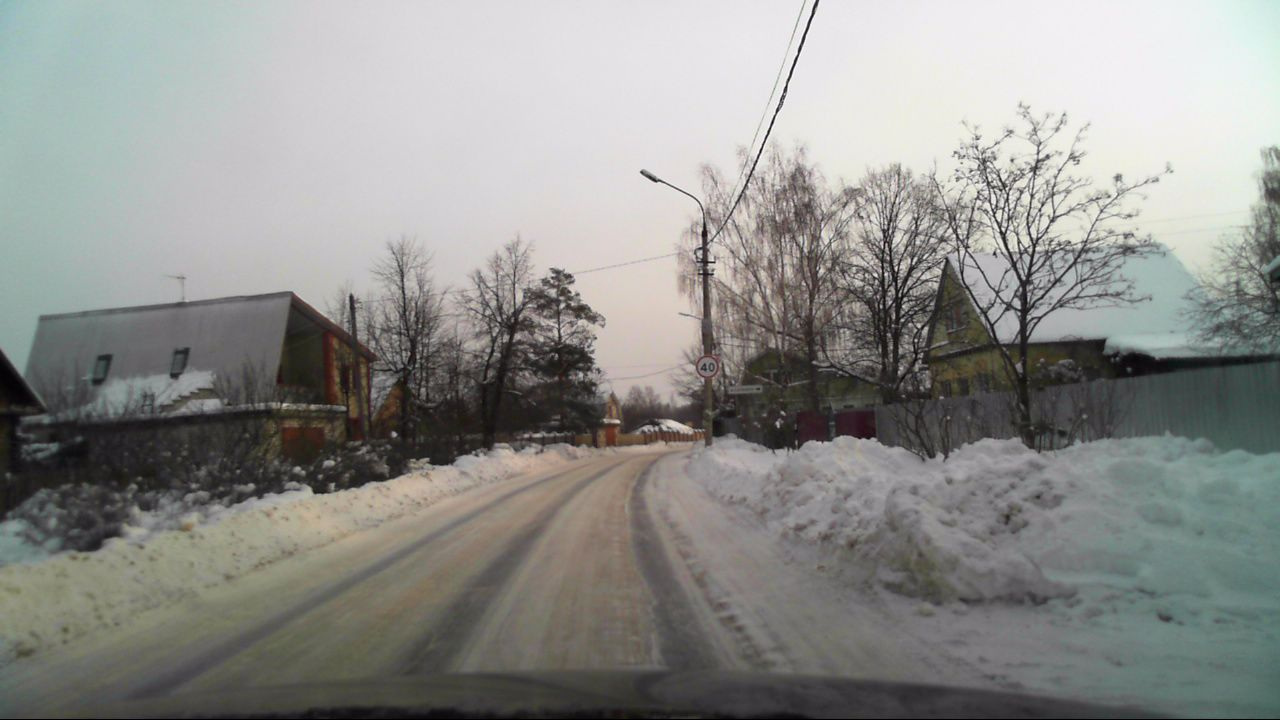speed_warning_40: (696, 355, 718, 378)
